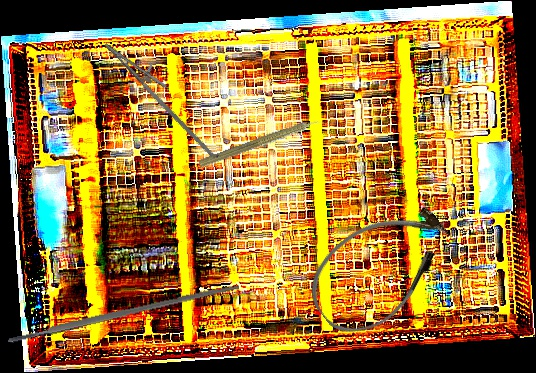Cannula: (293, 187, 469, 350)
Handpiece: (197, 112, 330, 173)
Needle Holder: (91, 32, 239, 163)
Scalpel Handle: (6, 281, 241, 345)
